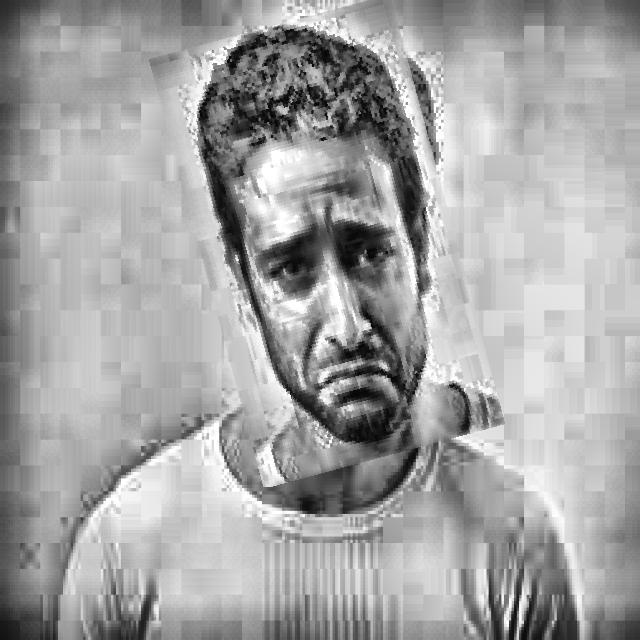sad: (175, 6, 479, 475)
